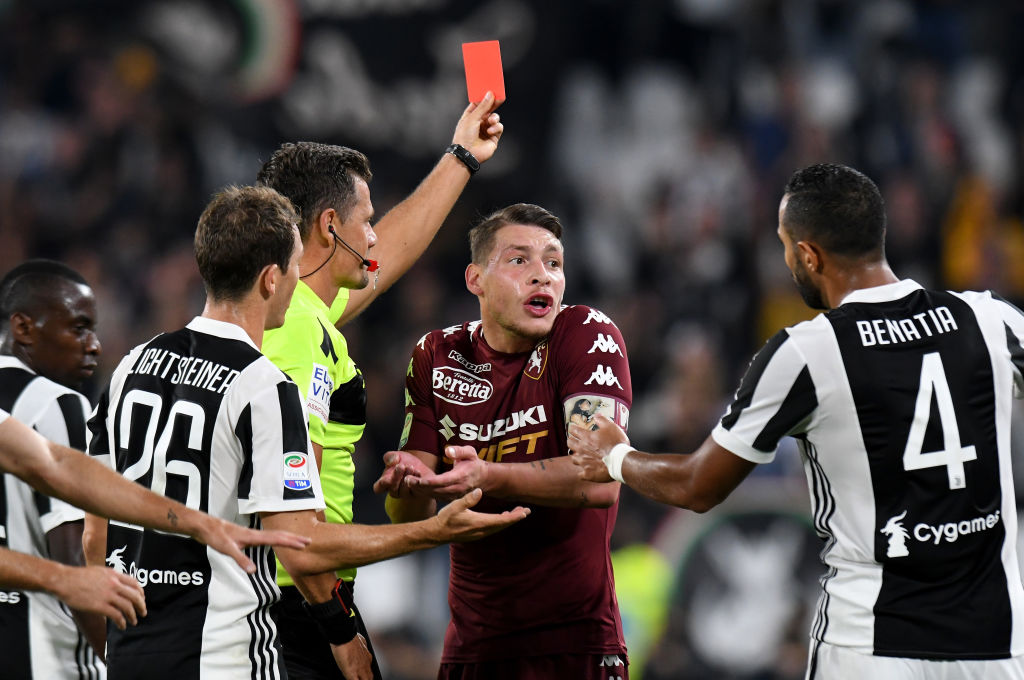red_card: (449, 35, 517, 161)
